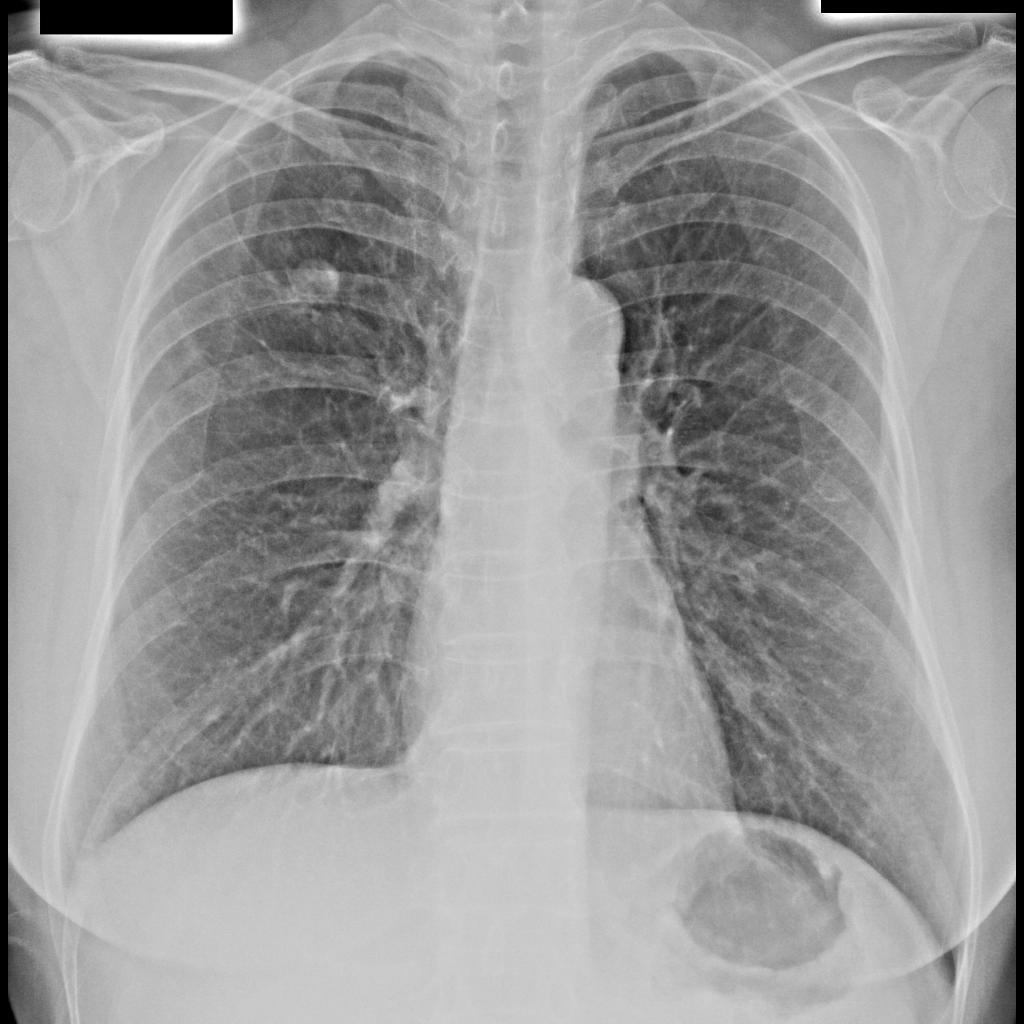Nodule: (287, 258, 338, 308)
